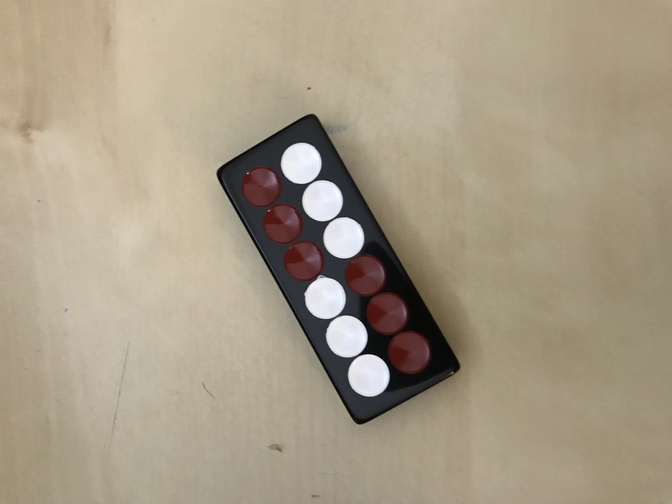heaven: (216, 113, 463, 425)
